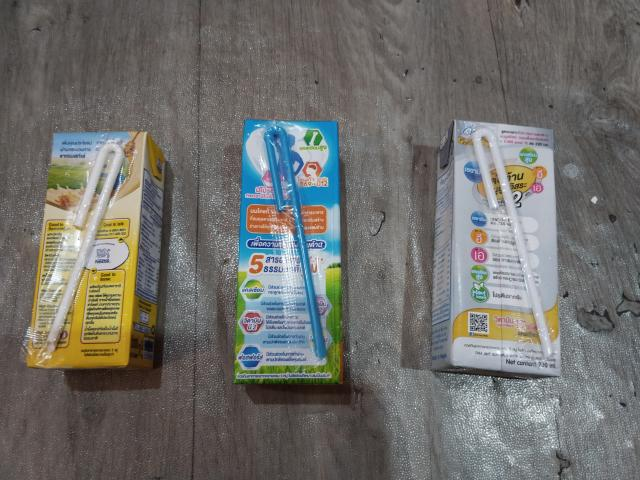drink_box: (432, 115, 564, 384), (232, 114, 356, 390), (39, 126, 161, 374)
